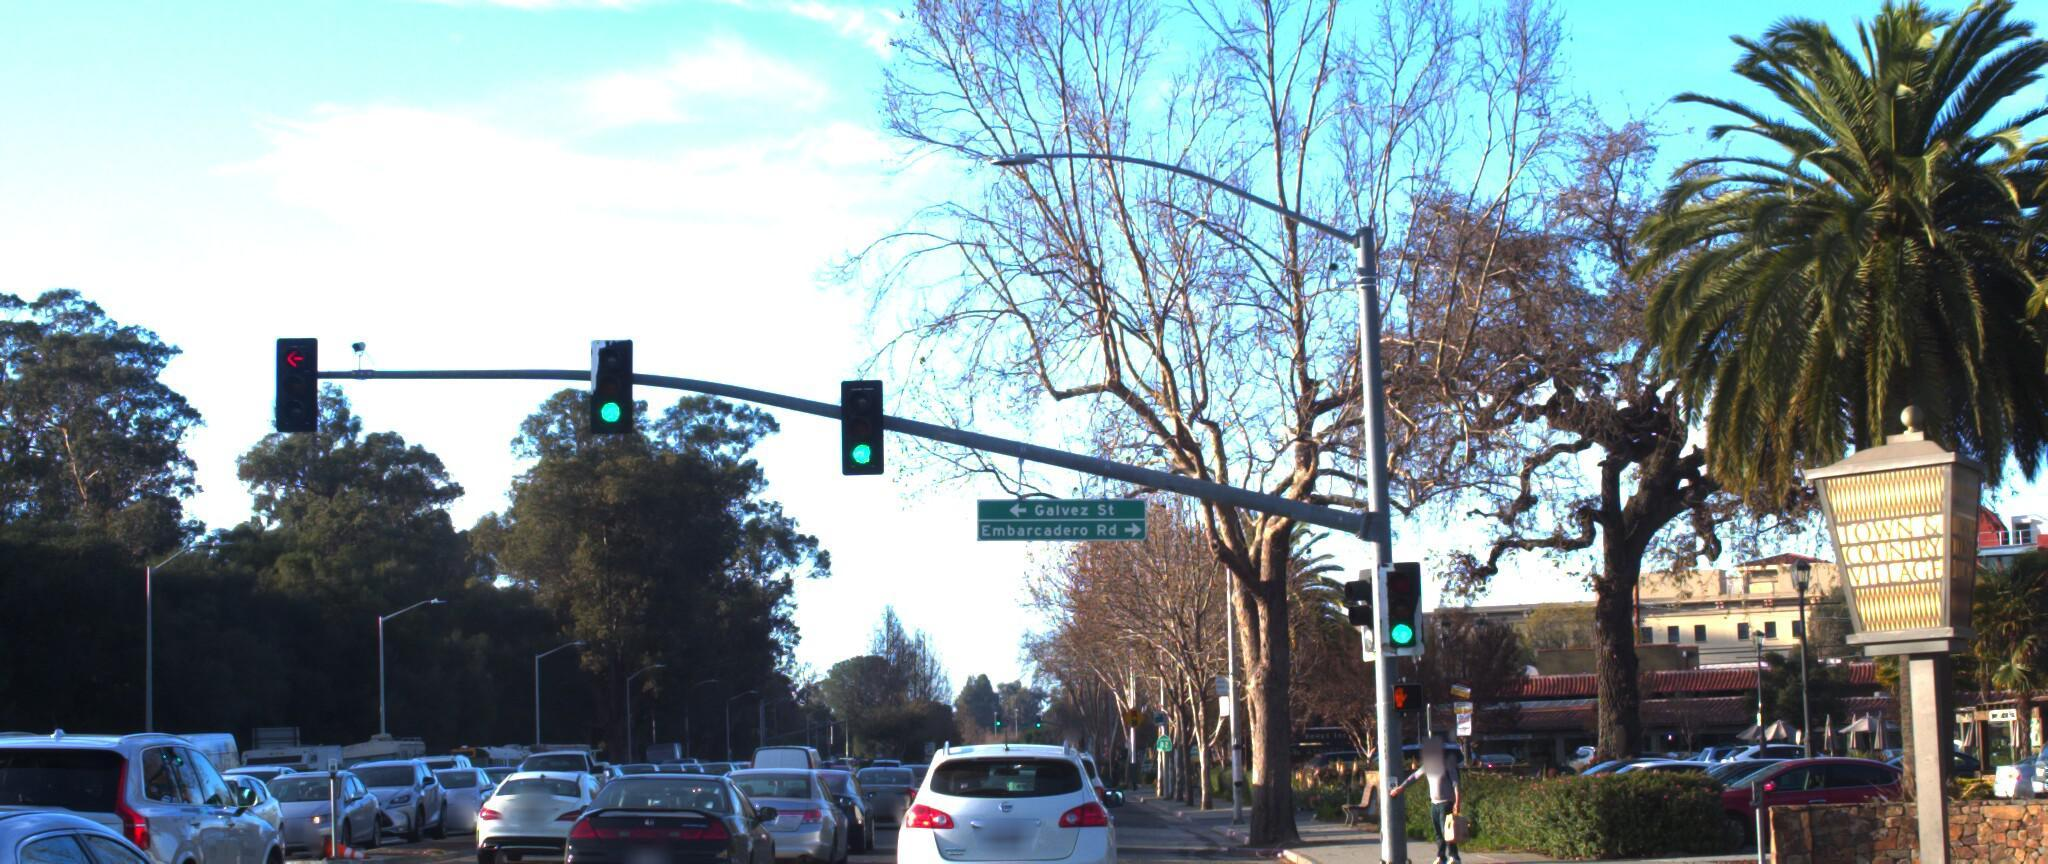car: (0, 703, 300, 864), (1646, 731, 1967, 844), (884, 717, 1125, 864), (0, 771, 345, 864), (569, 743, 788, 864), (690, 736, 848, 864), (108, 756, 293, 864), (107, 717, 261, 839), (473, 728, 619, 854), (234, 748, 388, 851), (316, 733, 456, 841), (502, 723, 615, 814), (394, 744, 505, 827), (836, 739, 925, 814), (0, 754, 54, 861)
